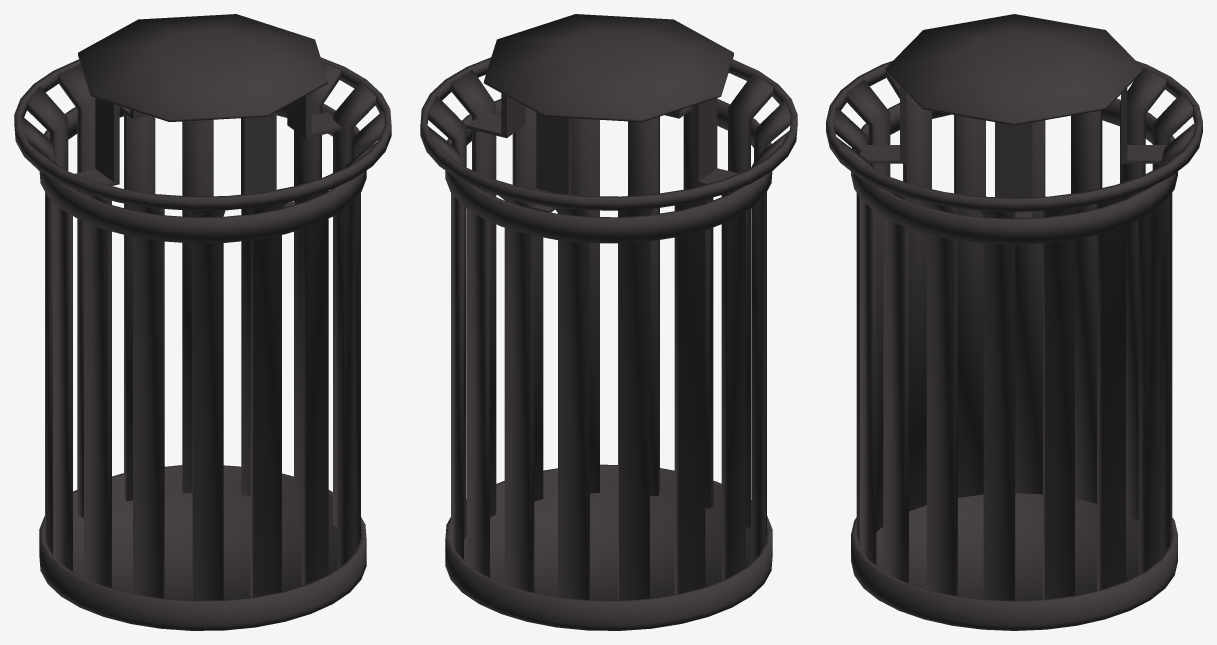
Rendered from Trash_can.fbx.
The picture shows the model from 3 angles, left to right: view 1: azimuth 30°, elevation 25°; view 2: azimuth 150°, elevation 25°; view 3: azimuth 270°, elevation 25°; orthographic projection.
Visible parts, largest first — view 1: Cylinder.002; view 2: Cylinder.002; view 3: Cylinder.002.
Part boxes in pixels (x1,y1,x2,y2): Cylinder.002: (14,14,391,630); Cylinder.002: (420,14,797,630); Cylinder.002: (826,14,1202,630).
Bounding box in the file's own units: 75.73 × 114 × 75.73.
